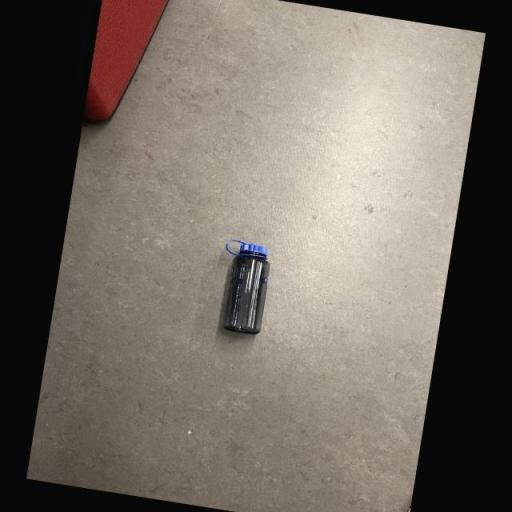bottle: (212, 238, 274, 338)
